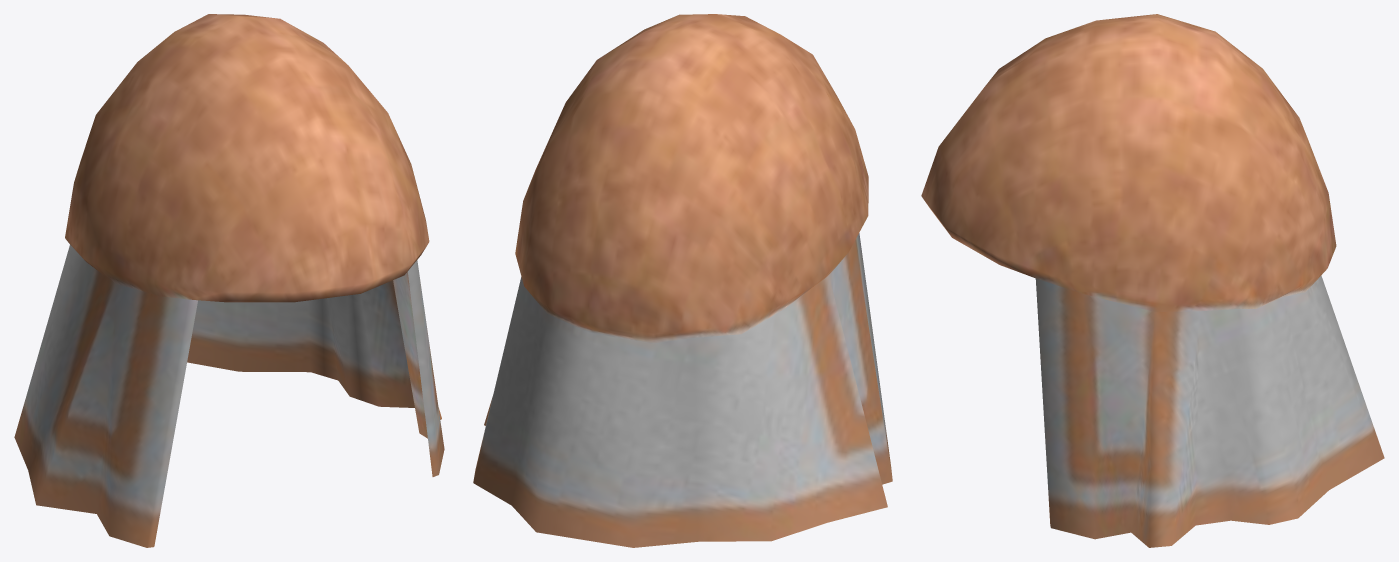
Rendered from helmet-mediumarchers.glb.
3 renders of one model, left to right at view 1: azimuth 30°, elevation 25°; view 2: azimuth 150°, elevation 25°; view 3: azimuth 270°, elevation 25°, orthographic. The views are drawn at different scales.
Size of the model in its own units: 0.3355 by 0.3605 by 0.3447.
1 material, 1 textured.
